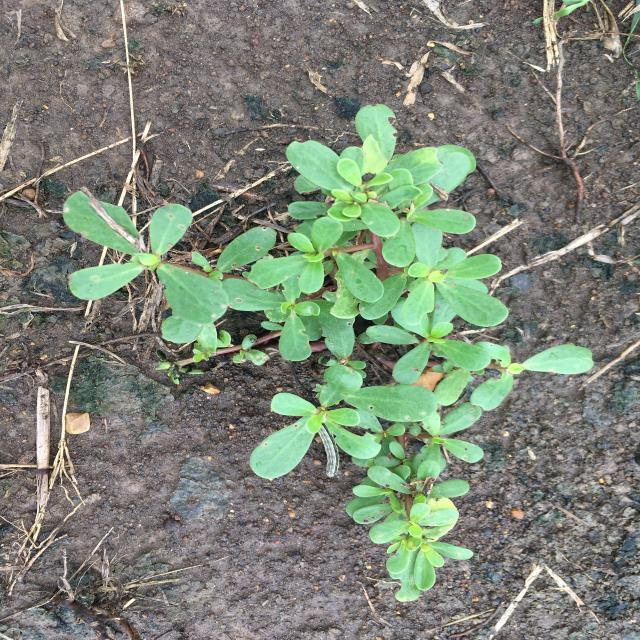Purslane: (62, 103, 596, 602)
